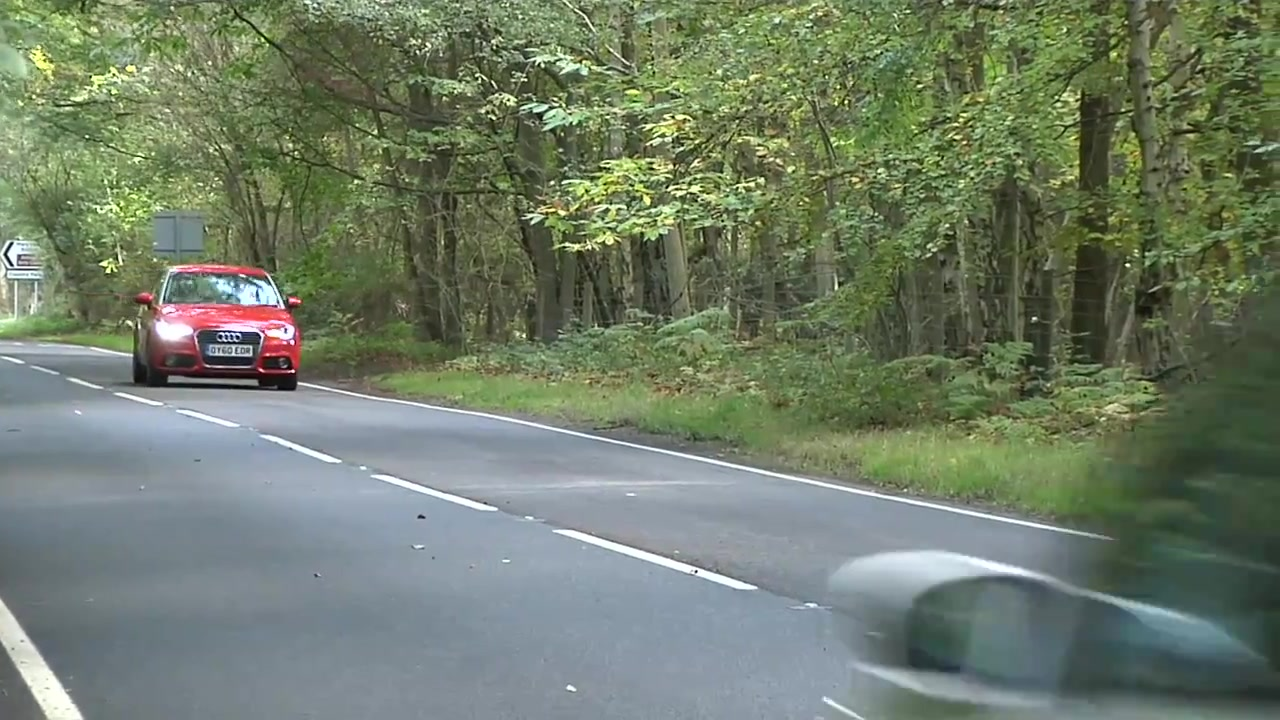car: (130, 262, 308, 395)
